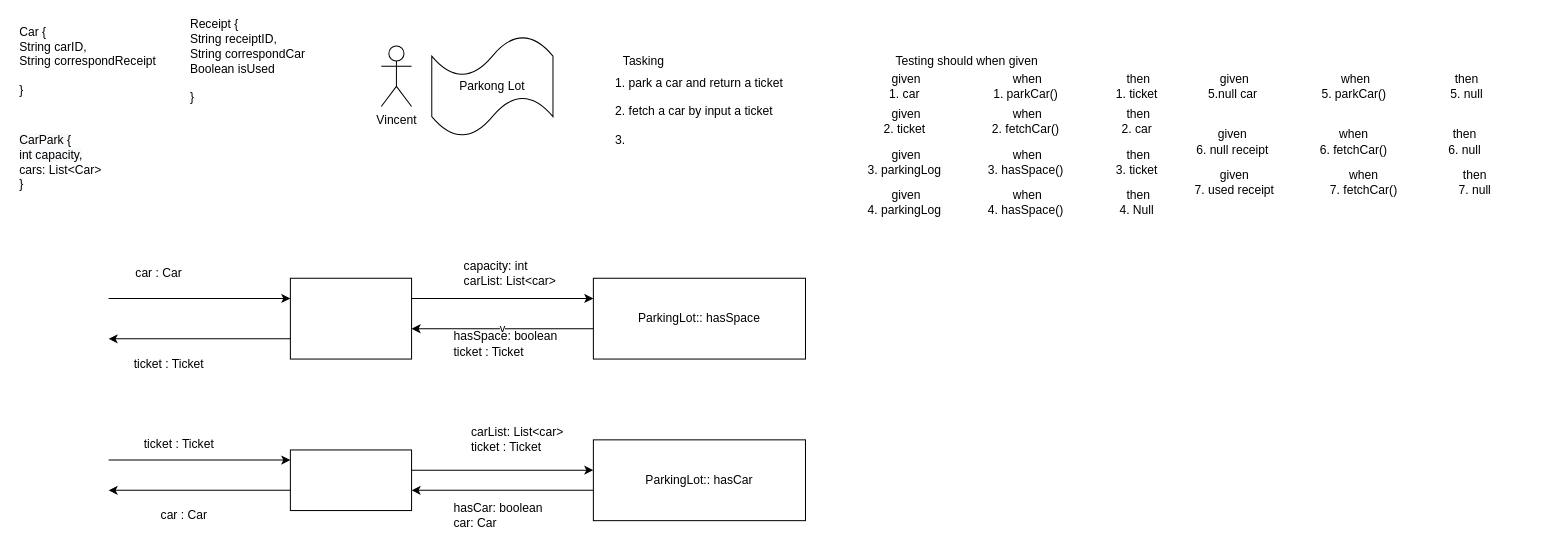
This 1552x547 diagram has some shape labels left out. Here are the shapes that lost their labels. From the top down, the box of each, then its label:
(289, 277, 412, 359): ParkingLot:: parkCar()
(289, 449, 412, 511): ParkingLot:: fetchCar()
